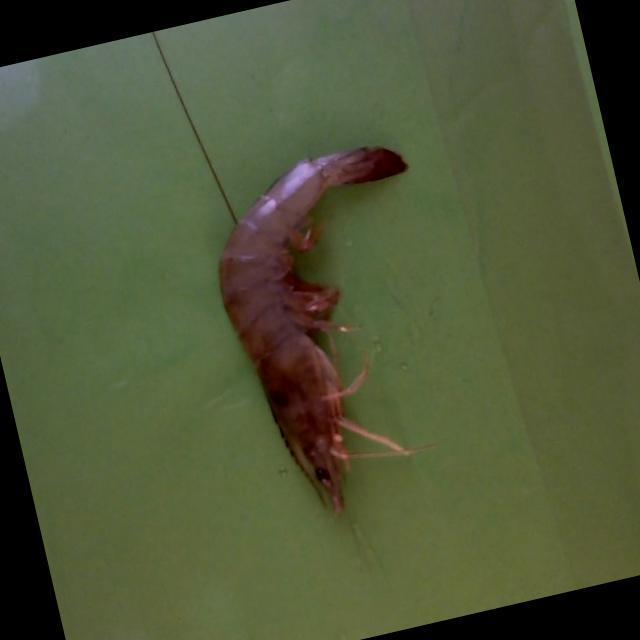shrimp: (220, 145, 406, 511)
